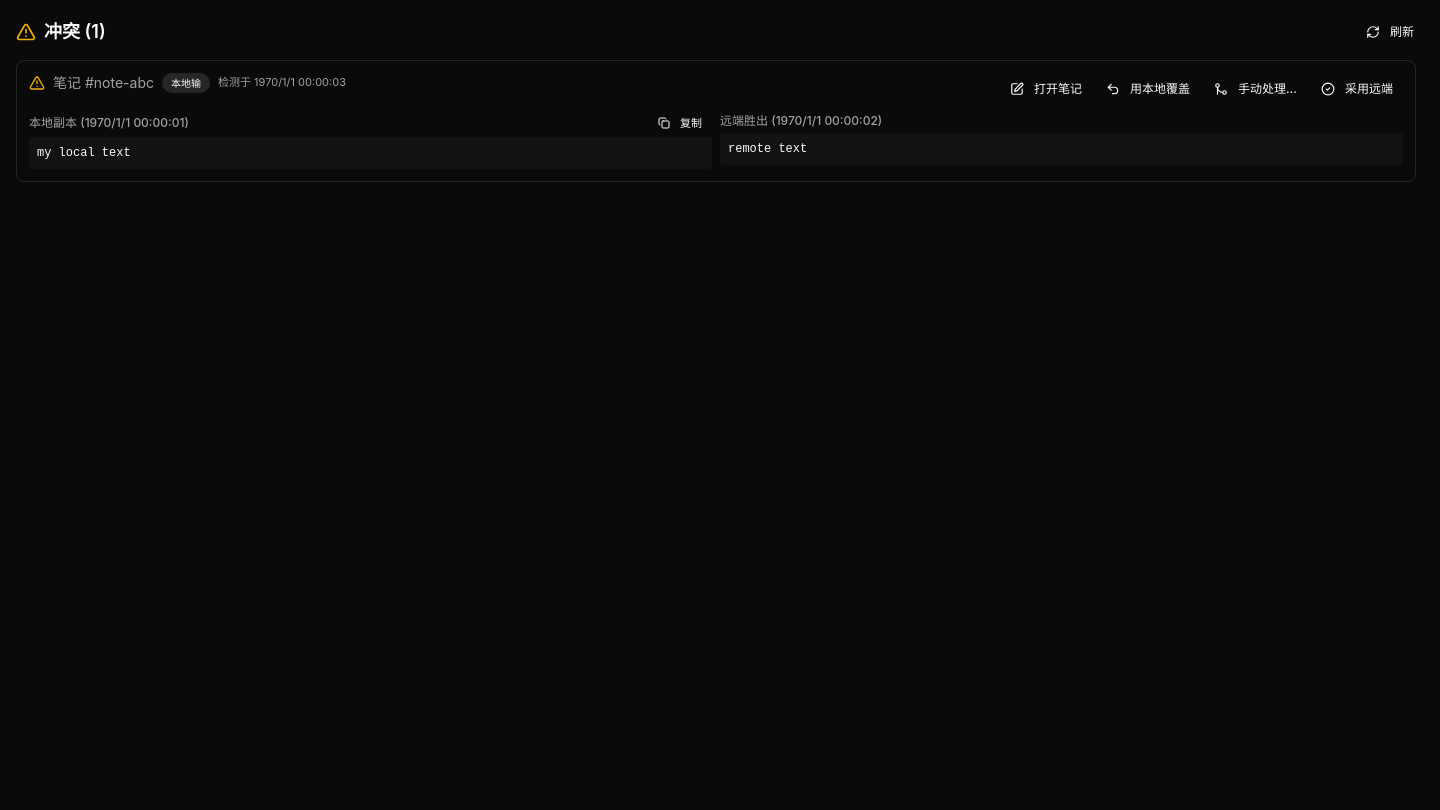
Test case: ConflictsPage resolve flow (W7) › opens the merge dialog when 手动处理… is clicked
This screenshot has width=1440, height=810.
Click the button "手动处理…".
click(1255, 89)  # box [1204,73,1307,105]
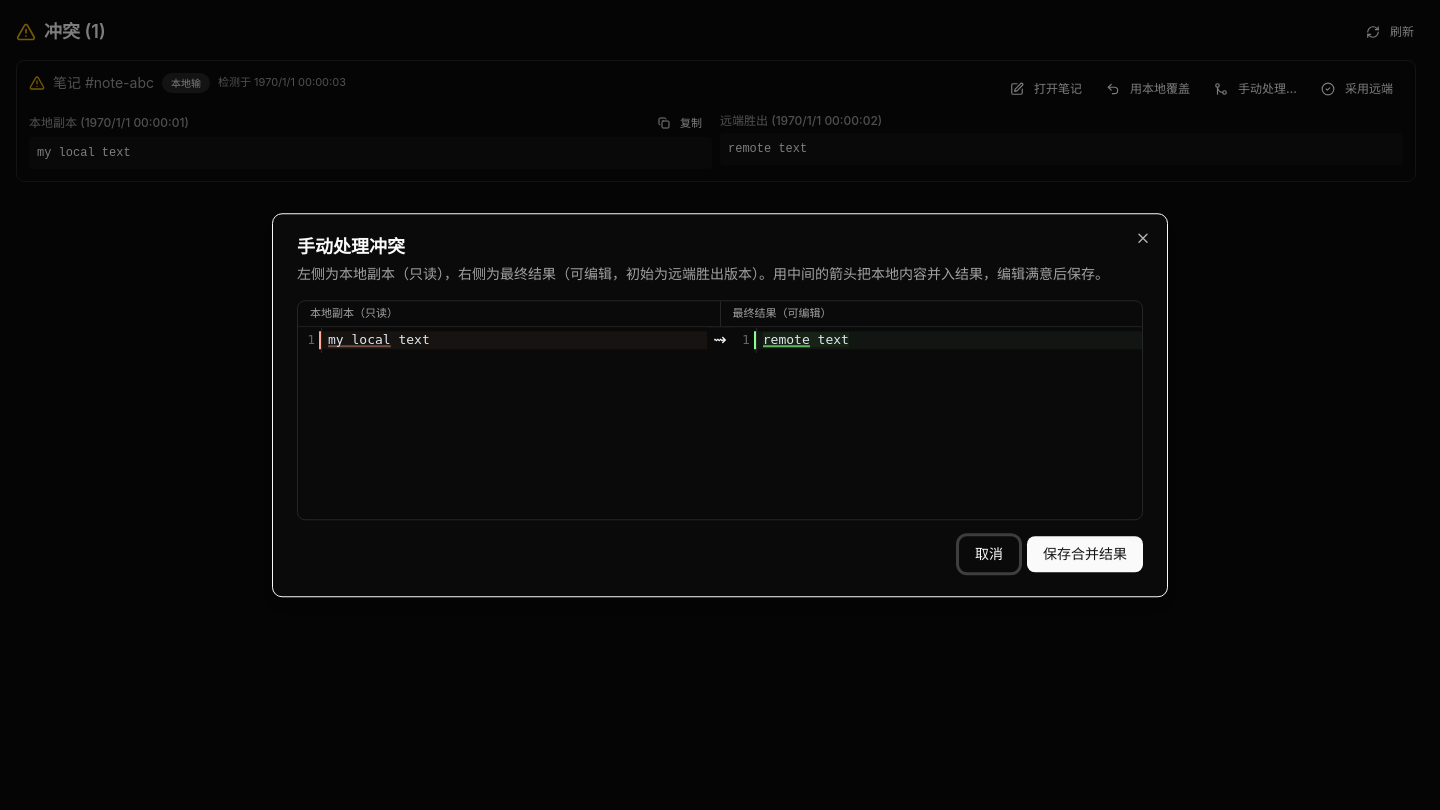
Now the heading "手动处理冲突" is shown, box [297,236,405,257]
